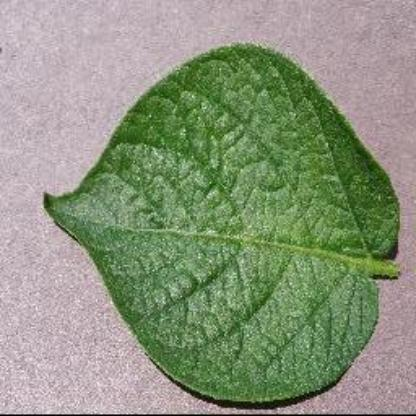Healthy-plant: (30, 42, 416, 408)
